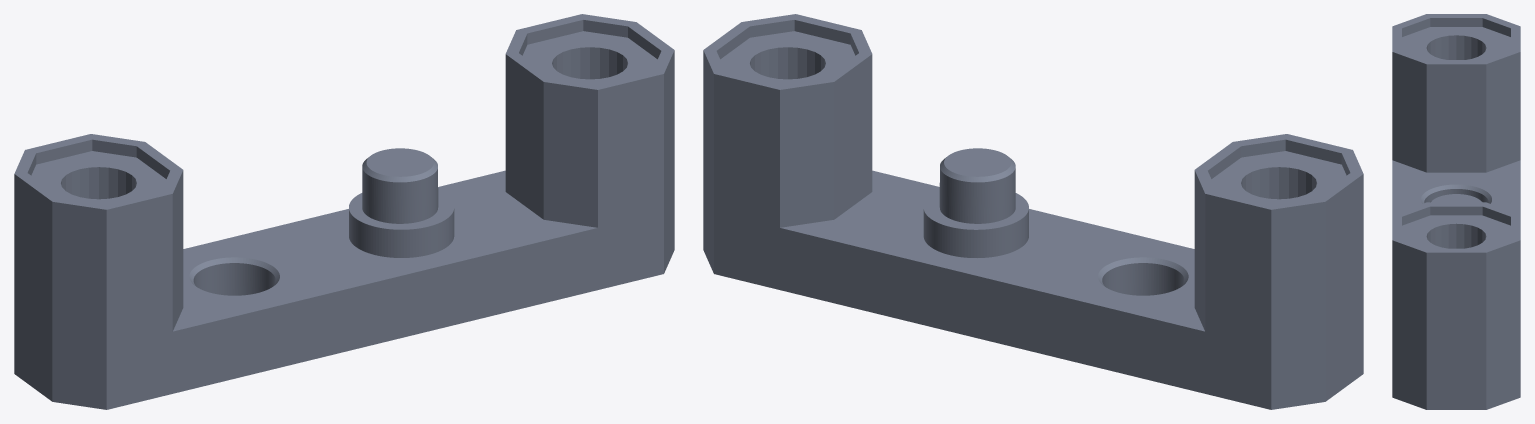
File: gearBoxBottom_grey.dae
The picture shows the model from 3 angles, left to right: view 1: azimuth 30°, elevation 25°; view 2: azimuth 150°, elevation 25°; view 3: azimuth 270°, elevation 25°; orthographic projection. The views are drawn at different scales.
Parts seen in each view (by area): view 1: _c6440b3c4db44196f115354; view 2: _c6440b3c4db44196f115354; view 3: _c6440b3c4db44196f115354.
Boxes of the visible parts, left/top/right/bottom form: _c6440b3c4db44196f115354: left=14, top=14, right=674, bottom=409; _c6440b3c4db44196f115354: left=703, top=14, right=1363, bottom=409; _c6440b3c4db44196f115354: left=1392, top=14, right=1520, bottom=409.
Bounding box in the file's own units: 0.1704 × 0.0388 × 0.0524.
